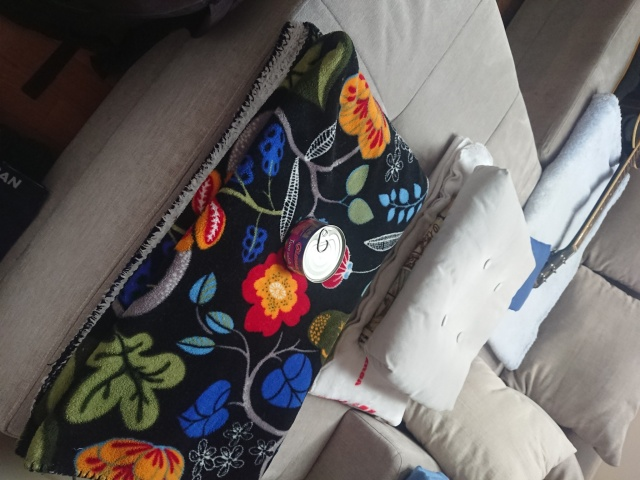Giana Tuna Salad Mexico 185g: (281, 216, 348, 285)
